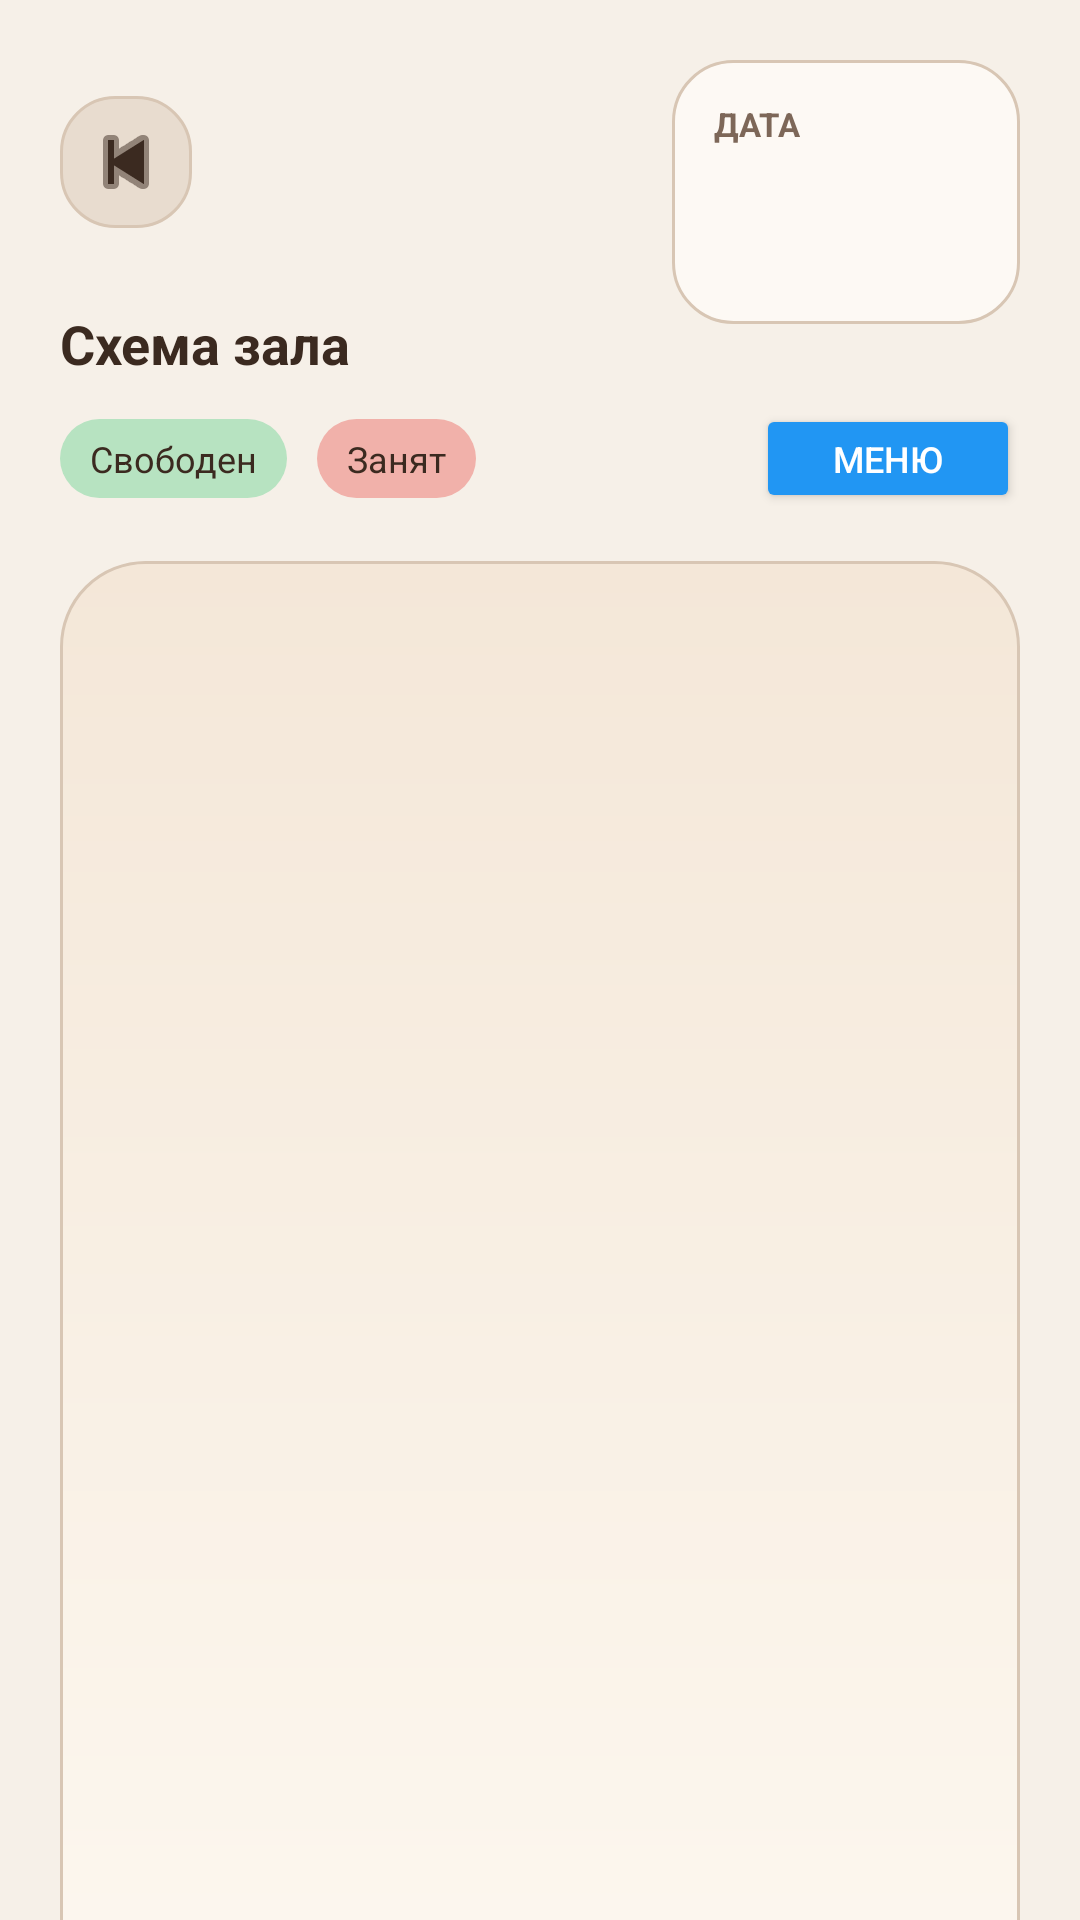

Named icons in this screenshot (1080px×1920px) and their bounding boxes, (x1, y1, x2, y2):
Назад: (60, 96, 192, 228)
